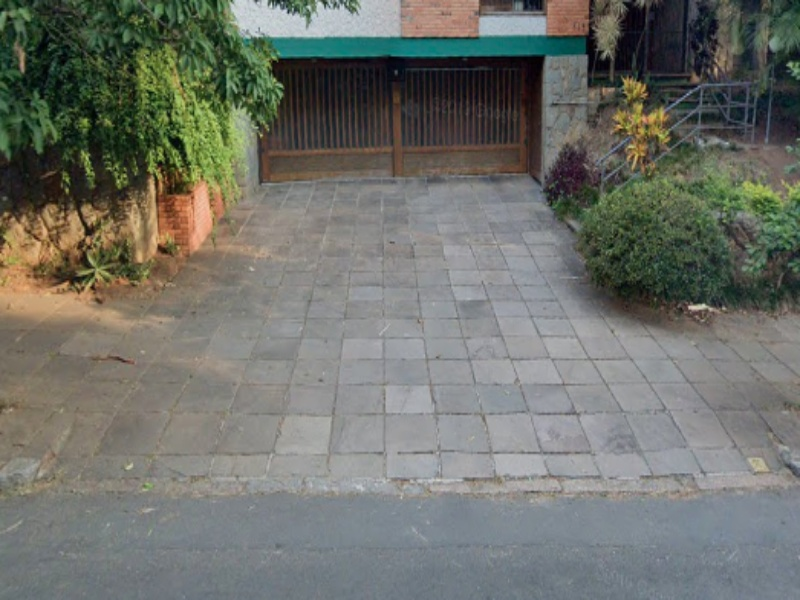g58: (66, 399, 795, 563)
